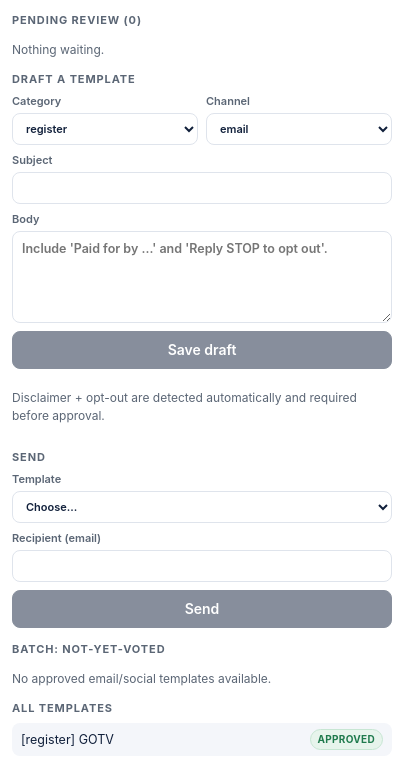
Scenario: CommsPanel › asks for an access code on an SMS send in dev mode
The width and height of the screenshot is (409, 760).
Step 1. Select "[register/sms] GOTV" in the dropdown labelled "Template" → [202, 507], box [12,491,392,523]
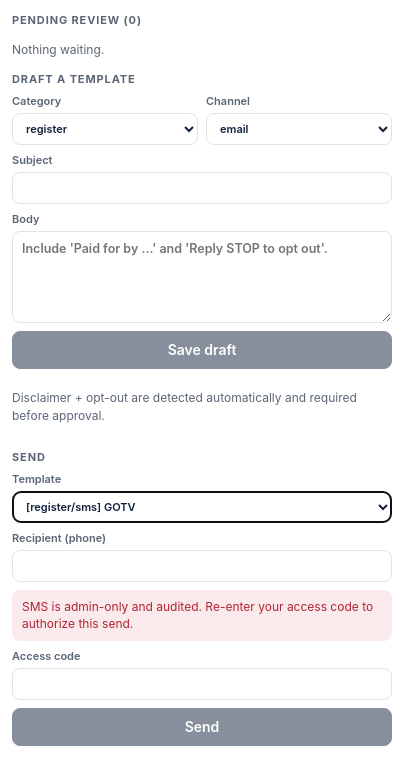
Check: the password field labelled "Access code" is shown, box [12,668,392,700]
